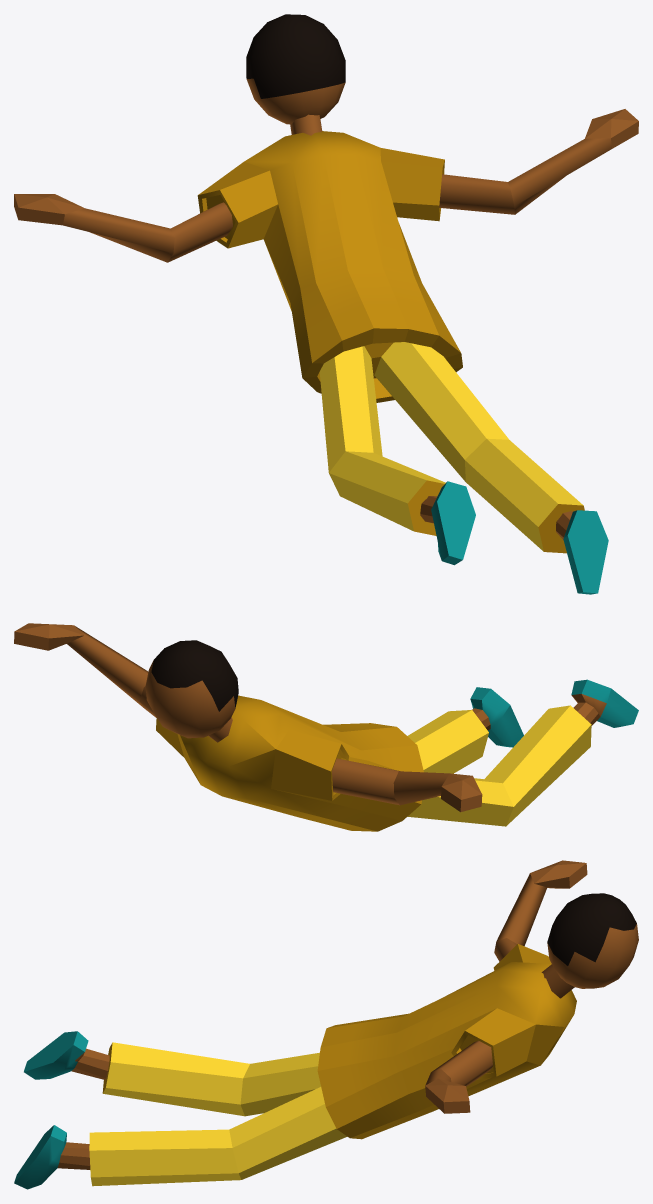
File: falling_player_file.obj
3 views of the same model, one above another, from view 1: azimuth 30°, elevation 25°; view 2: azimuth 150°, elevation 25°; view 3: azimuth 270°, elevation 25° (orthographic). The views are drawn at different scales.
Visible parts, largest first — view 1: Player__1_:pSphere3, Player__1_:pSphere5, Player__1_:pSphere1, Player__1_:pCylinder2, Player__1_:pCylinder3; view 2: Player__1_:pSphere3, Player__1_:pSphere5, Player__1_:pSphere1, Player__1_:pCylinder3, Player__1_:pCylinder2; view 3: Player__1_:pSphere3, Player__1_:pSphere1, Player__1_:pSphere5, Player__1_:pCylinder3, Player__1_:pCylinder2, Player__1_:pCylinder10.
Part boxes in pixels (x1,y1,x2,y2): Player__1_:pSphere3: (197, 131, 584, 553); Player__1_:pSphere5: (14, 109, 638, 262); Player__1_:pSphere1: (246, 14, 345, 124); Player__1_:pCylinder2: (556, 510, 608, 594); Player__1_:pCylinder3: (420, 481, 475, 565); Player__1_:pSphere3: (156, 695, 591, 831); Player__1_:pSphere5: (14, 623, 482, 812); Player__1_:pSphere1: (145, 640, 238, 738); Player__1_:pCylinder3: (571, 679, 638, 727); Player__1_:pCylinder2: (470, 687, 523, 747); Player__1_:pSphere3: (89, 944, 576, 1186); Player__1_:pSphere1: (547, 893, 638, 988); Player__1_:pSphere5: (425, 860, 587, 1113); Player__1_:pCylinder3: (24, 1031, 109, 1079); Player__1_:pCylinder2: (14, 1125, 90, 1189); Player__1_:pCylinder10: (541, 964, 574, 998).
Bounding box in the file's own units: 10.59 × 6.17 × 11.55.
